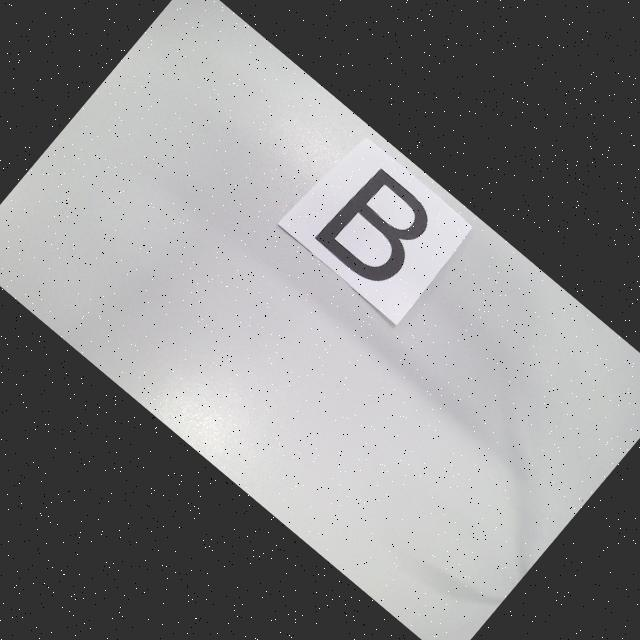FAKE: (314, 164, 442, 294)
